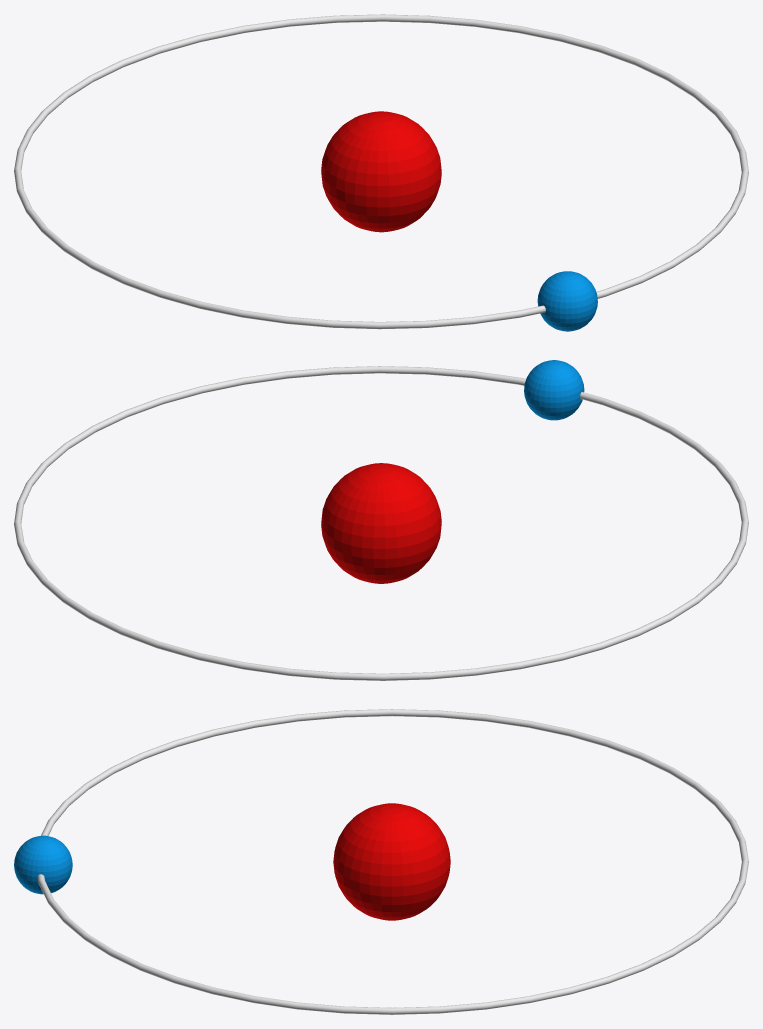
Rendered from hydrogenreal.glb.
3 renders of one model, top to bottom at view 1: azimuth 30°, elevation 25°; view 2: azimuth 150°, elevation 25°; view 3: azimuth 270°, elevation 25°, orthographic. The views are drawn at different scales.
Visible parts, largest first — view 1: BézierCircle, Sphere, Sphere.001; view 2: BézierCircle, Sphere, Sphere.001; view 3: BézierCircle, Sphere, Sphere.001.
Part boxes in pixels (x1,y1,x2,y2): BézierCircle: [14, 14, 748, 329]; Sphere: [321, 111, 441, 232]; Sphere.001: [537, 271, 597, 331]; BézierCircle: [14, 366, 748, 680]; Sphere: [321, 463, 441, 583]; Sphere.001: [524, 360, 584, 420]; BézierCircle: [37, 709, 748, 1014]; Sphere: [333, 803, 450, 920]; Sphere.001: [14, 835, 72, 894].
Bounding box in the file's own units: 12.15 × 2 × 12.51.
